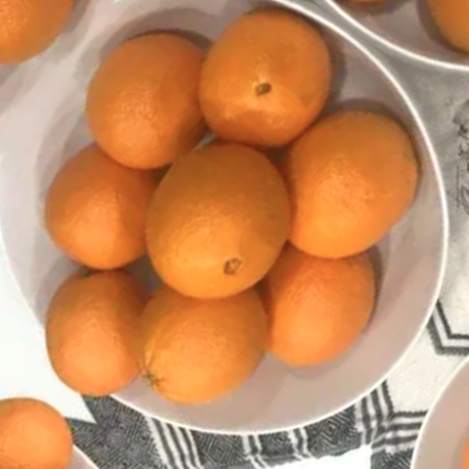orange: (108, 114, 326, 335), (199, 204, 417, 418), (235, 75, 447, 294), (40, 0, 246, 200), (155, 0, 361, 190), (7, 248, 186, 427)
